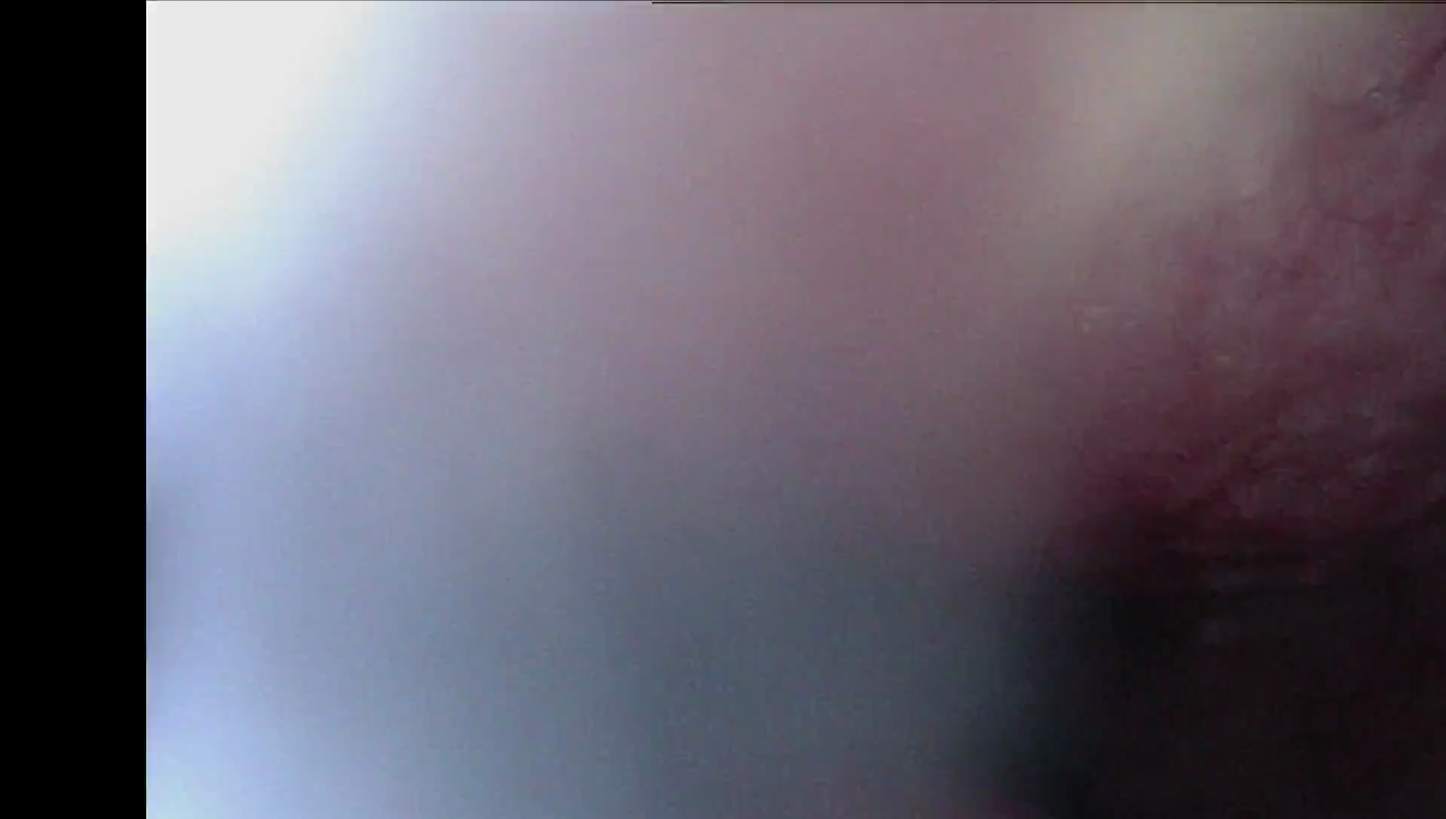close_wall: (155, 0, 970, 373)
next: (971, 455, 1445, 819)
